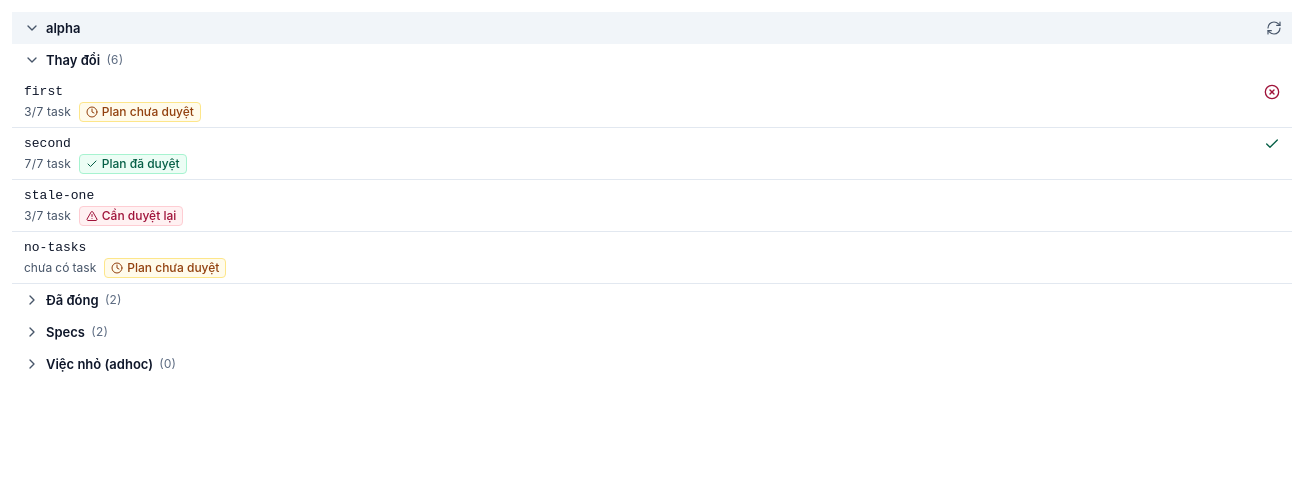
<PlanTree /> › groups and rows › a closed row shows its date and task count, and no approval badge
This screenshot has width=1304, height=493.
What coordinates should you click on to do the following:
click the button "Đã đóng (2)"
I would click on:
 (72, 300)
Its box is [12,284,1292,316].
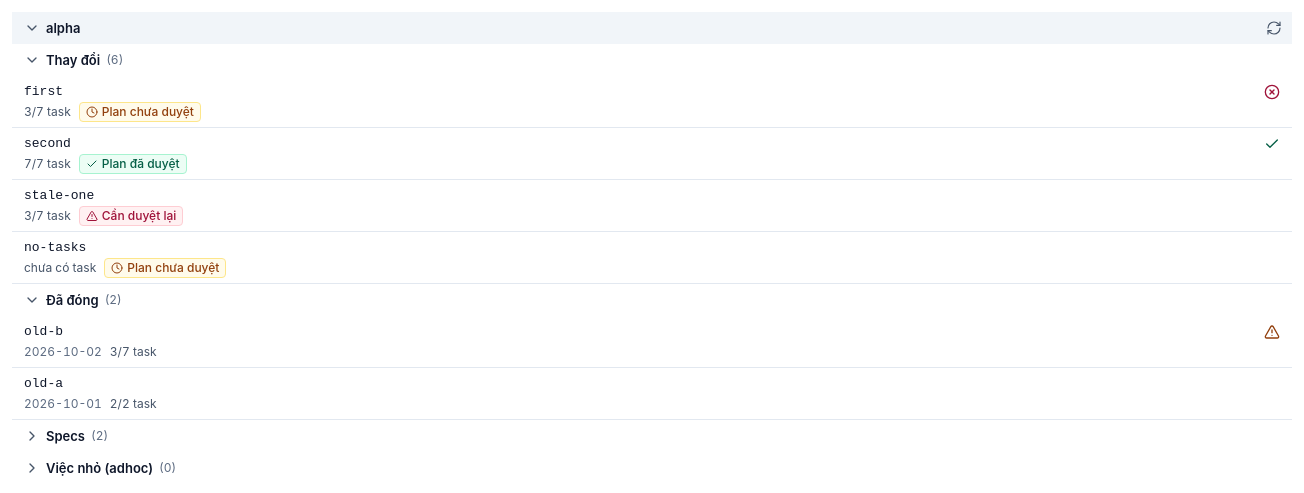
Expected: the text "2026-10-01" is shown, [24,396,102,412]
Expected: the text "2/2 task" is shown, [110,396,157,412]
Expected: the picture named "Test gần nhất: vàng" is shown, [1264,324,1280,340]
